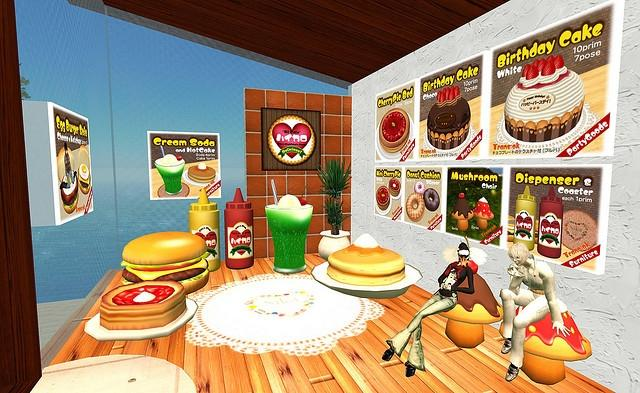mushroom: (499, 296, 592, 386), (430, 273, 504, 349), (472, 197, 494, 229), (452, 199, 474, 231)
